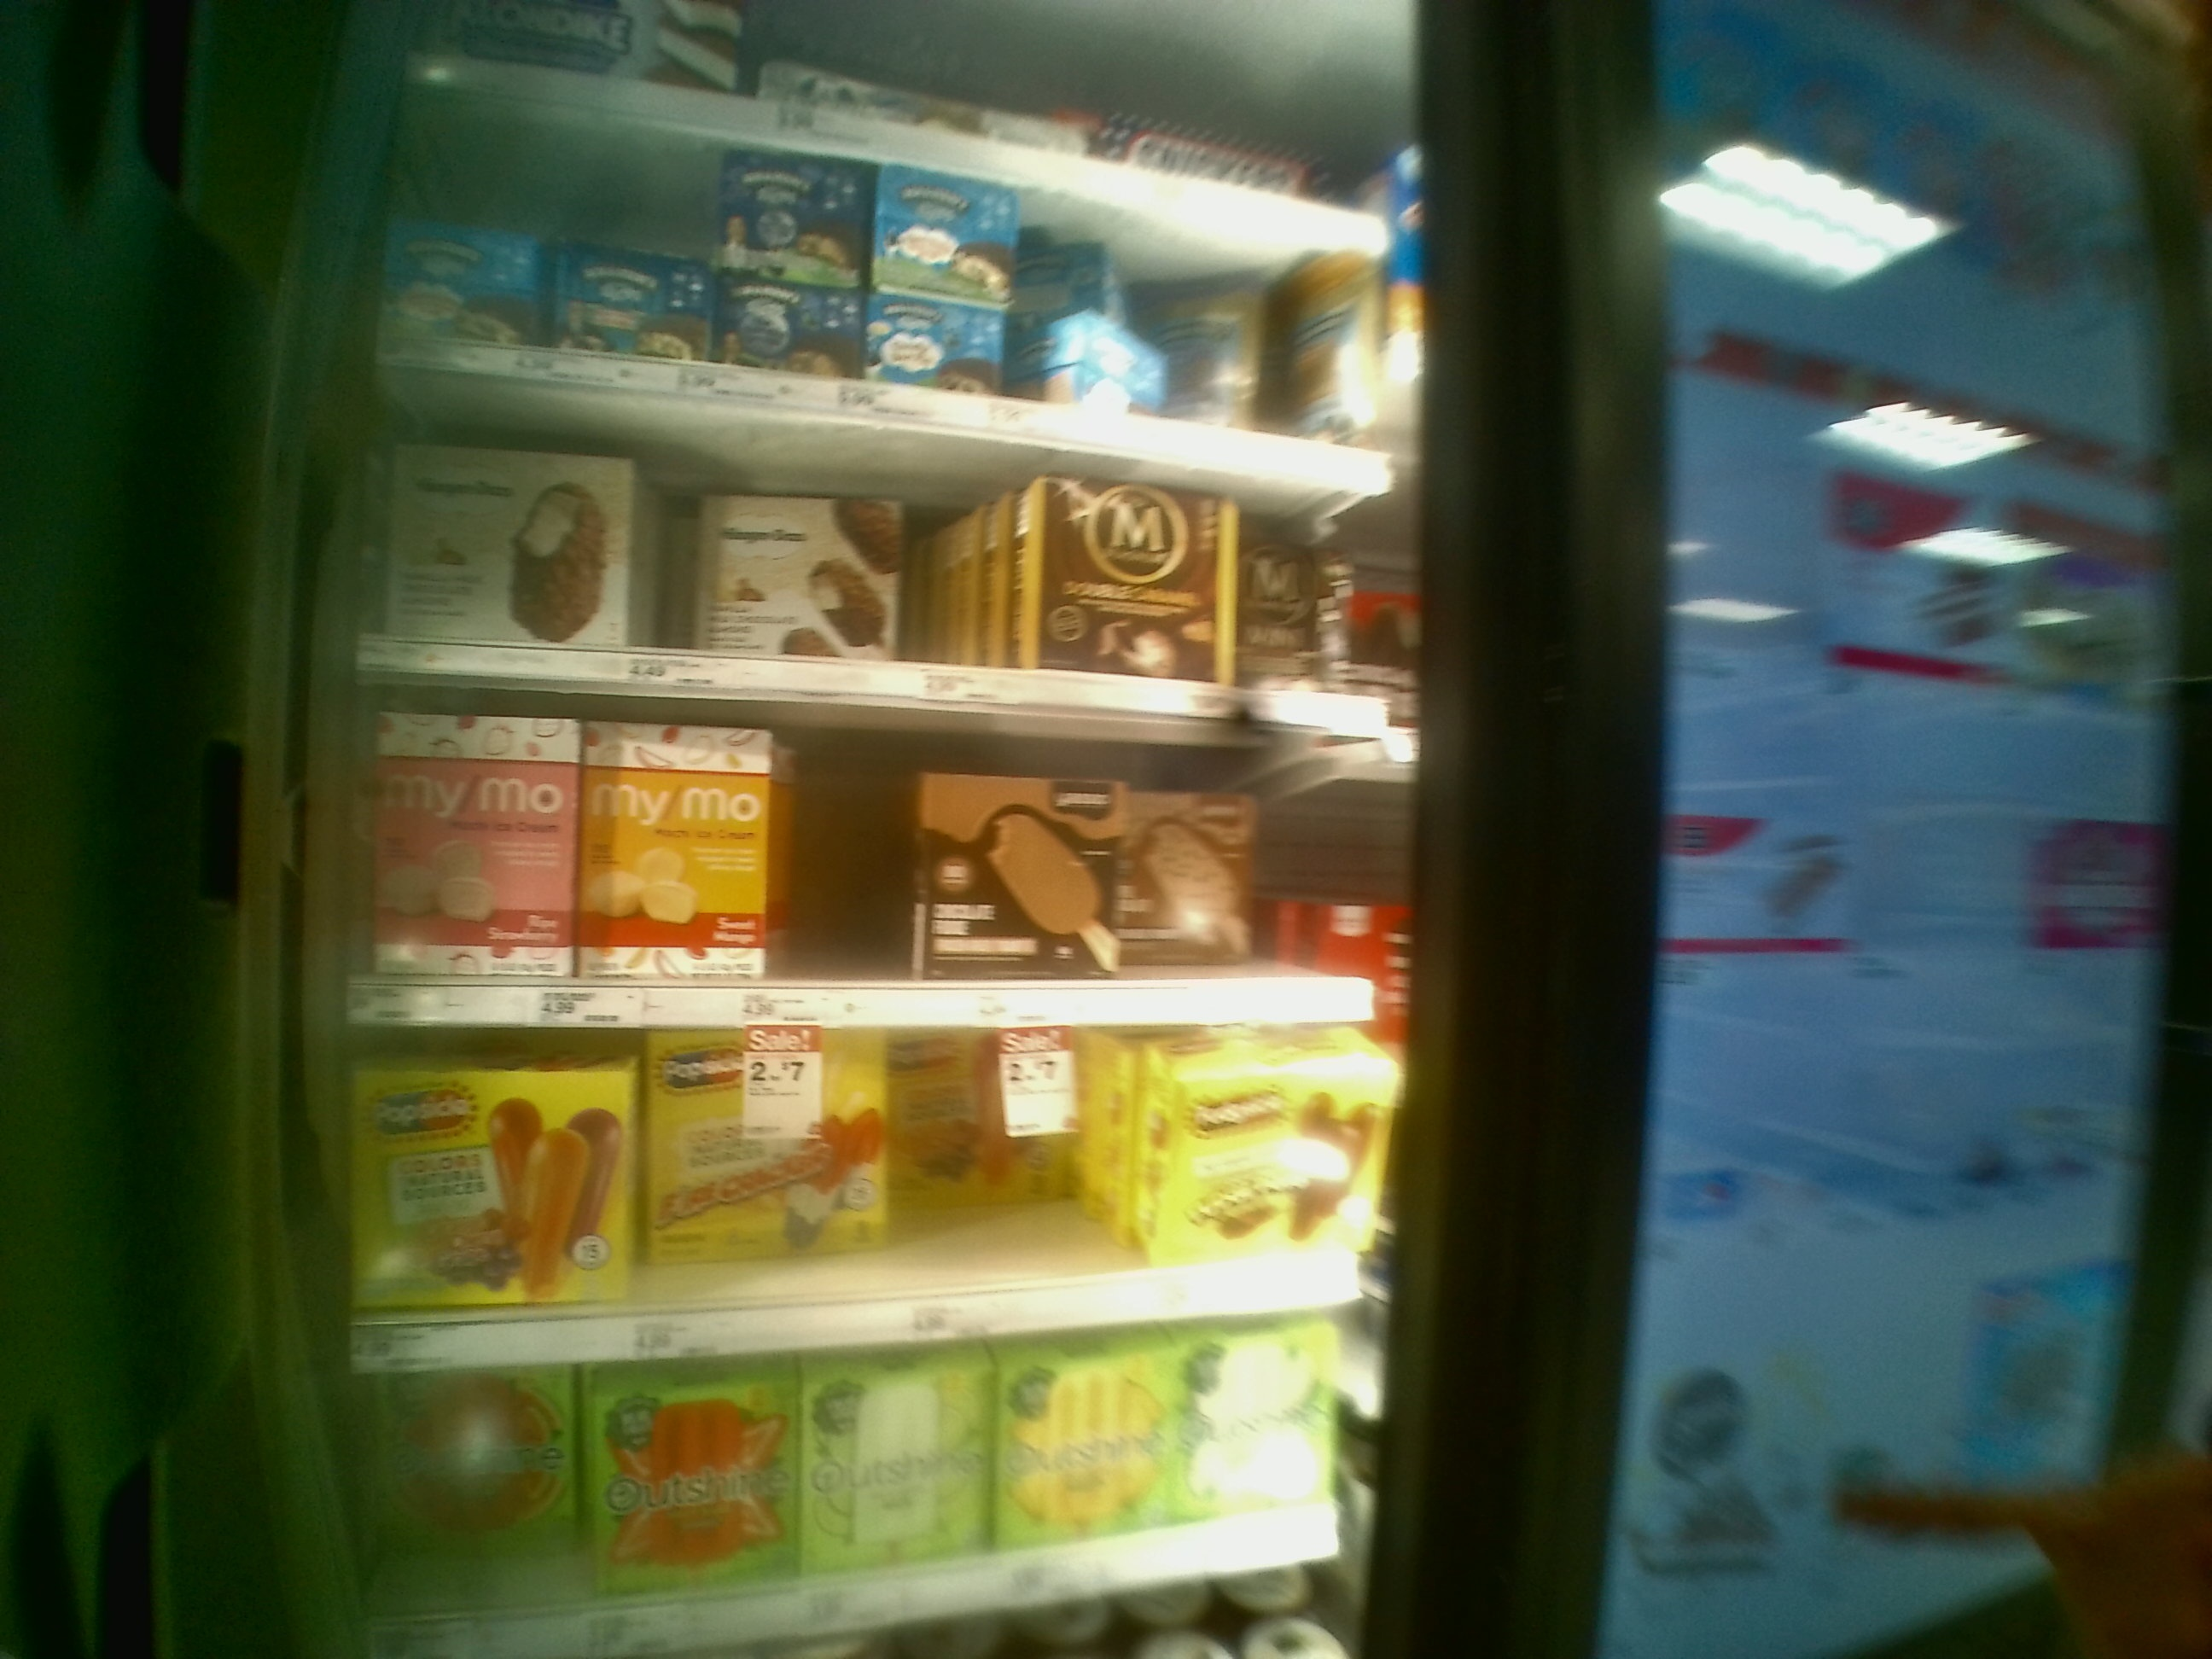ice-cream-shelf: (355, 676, 1385, 1023)
